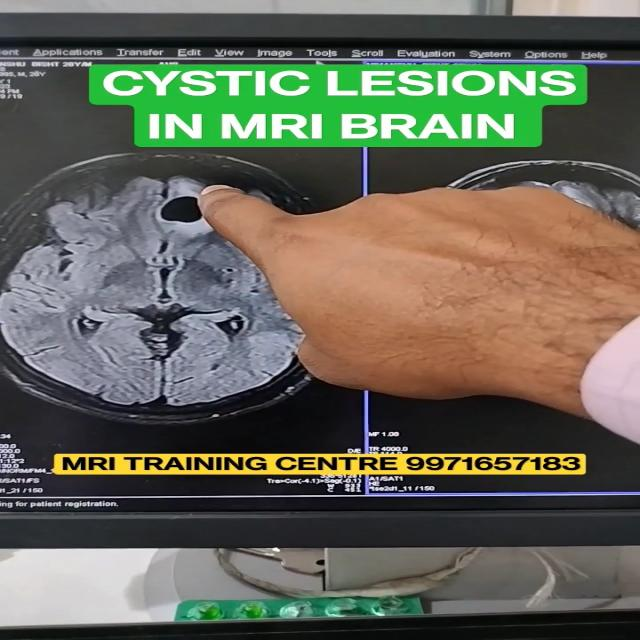tumor: (143, 167, 232, 236)
